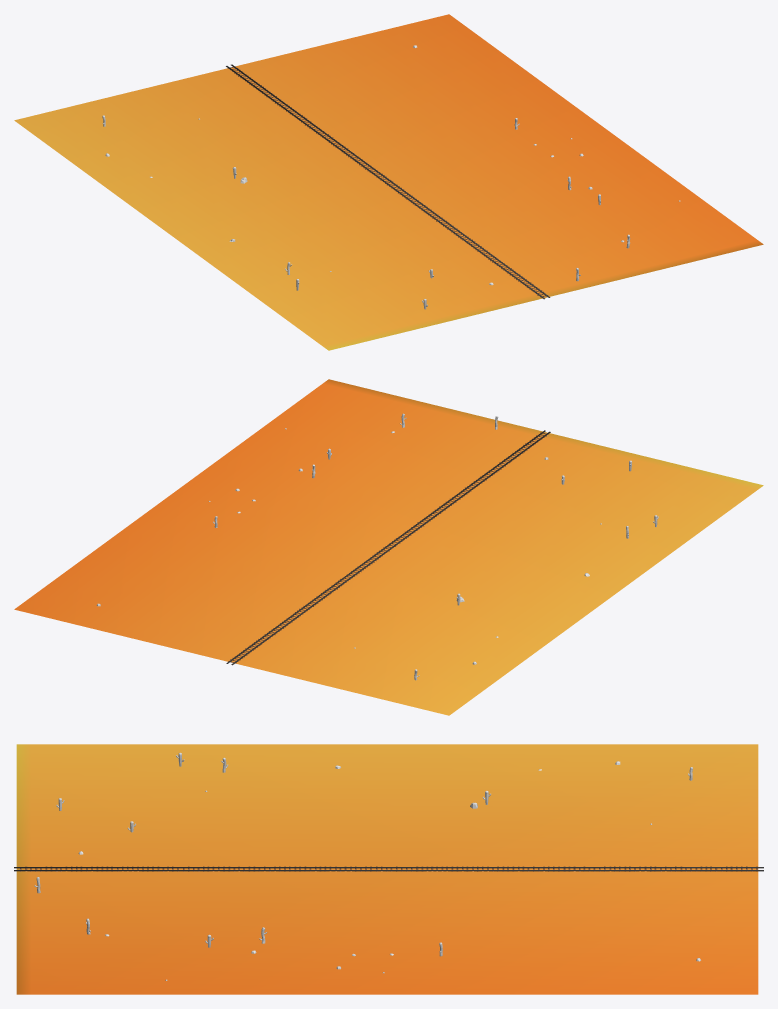
Rendered from Lvl_Version_02.fbx.
3 views of the same model, one above another, from view 1: azimuth 30°, elevation 25°; view 2: azimuth 150°, elevation 25°; view 3: azimuth 270°, elevation 25° (orthographic). The views are drawn at different scales.
Visible parts, largest first — view 1: Level_03; view 2: Level_03; view 3: Level_03.
Boxes of the visible parts, left/top/right/bottom form: Level_03: left=14, top=14, right=763, bottom=350; Level_03: left=14, top=379, right=763, bottom=715; Level_03: left=14, top=744, right=763, bottom=994.
Size of the model in its own units: 16010 by 563 by 20276.
